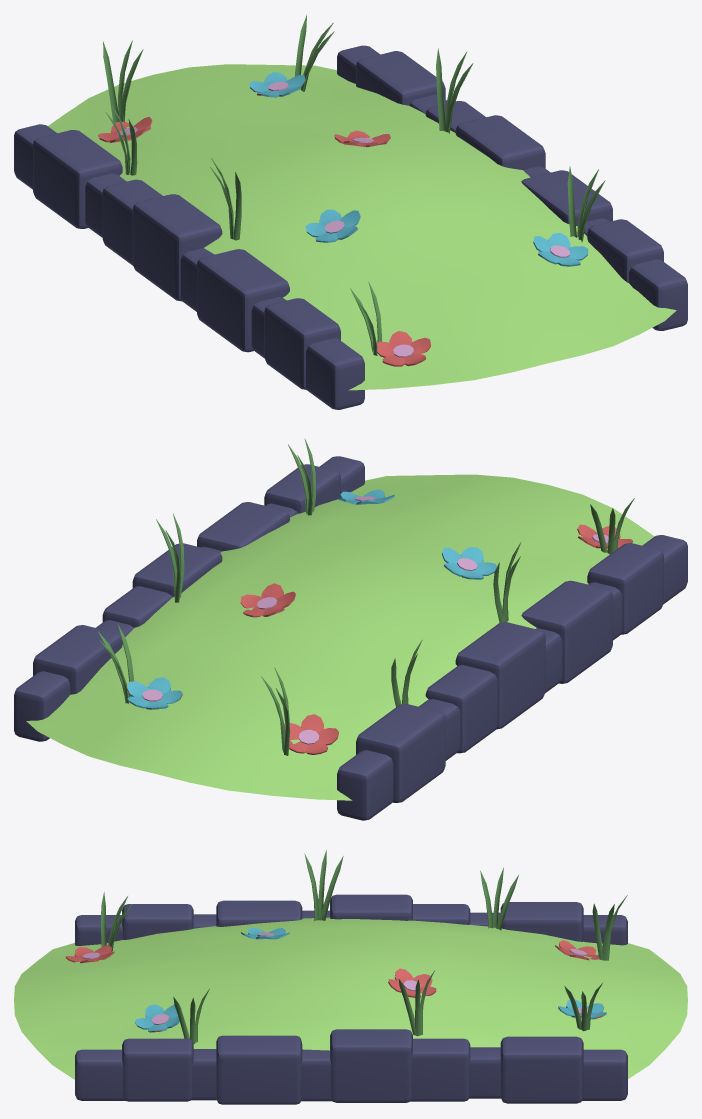
The model's file is SnappingHugging.fbx.
3 views of the same model, one above another, from view 1: azimuth 30°, elevation 25°; view 2: azimuth 150°, elevation 25°; view 3: azimuth 270°, elevation 25° (orthographic). The views are drawn at different scales.
Visible parts, largest first — view 1: hug_station; view 2: hug_station; view 3: hug_station.
Part boxes in pixels (x1,y1,x2,y2): hug_station: [14, 15, 687, 409]; hug_station: [14, 439, 687, 820]; hug_station: [14, 850, 687, 1104].
Size of the model in its own units: 2.51 by 0.8793 by 4.6.
